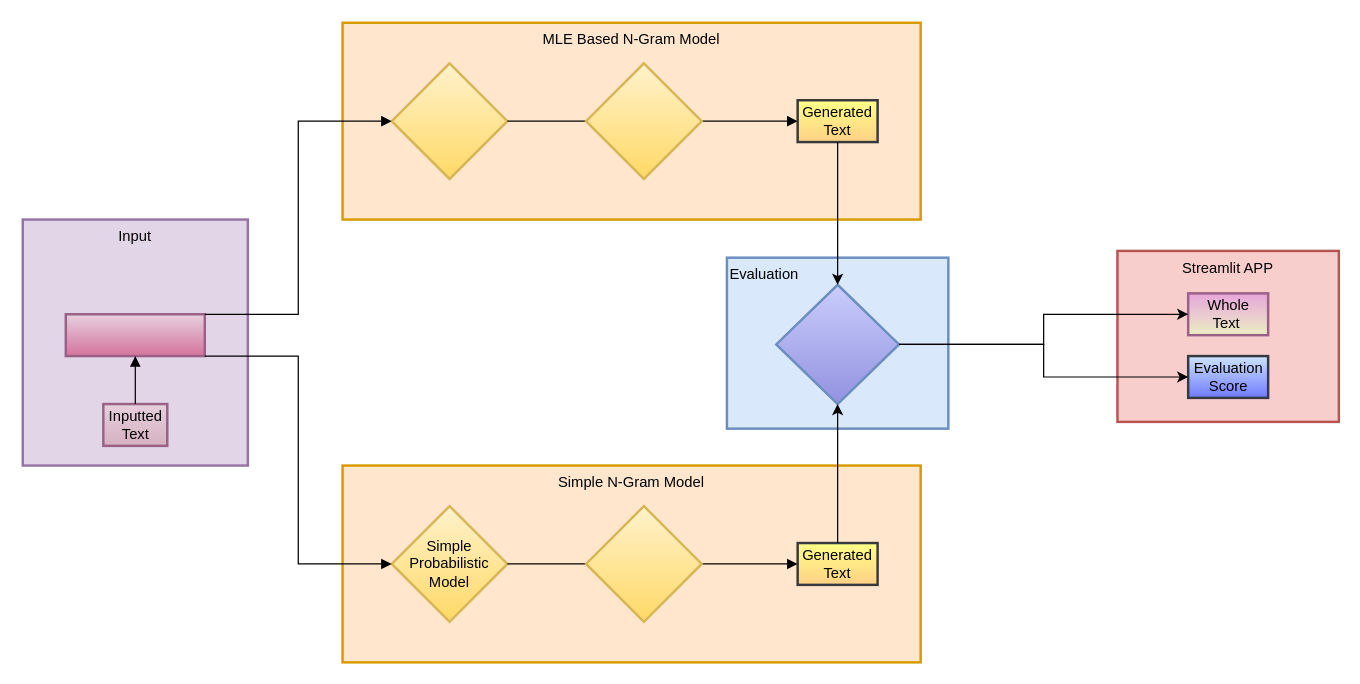
The diagram is 1360 pixels wide and 684 high, and some of its shapes have lost their labels. Here are the shapes that lost their labels. From the top down, the box of each, then its label:
(390, 62, 508, 180): MLE Model
(584, 62, 702, 180): MLE Calculation
(64, 312, 205, 357): Preprocessing
(774, 283, 900, 405): Perplexity Score Calculation
(584, 504, 702, 622): Probability Calculation
